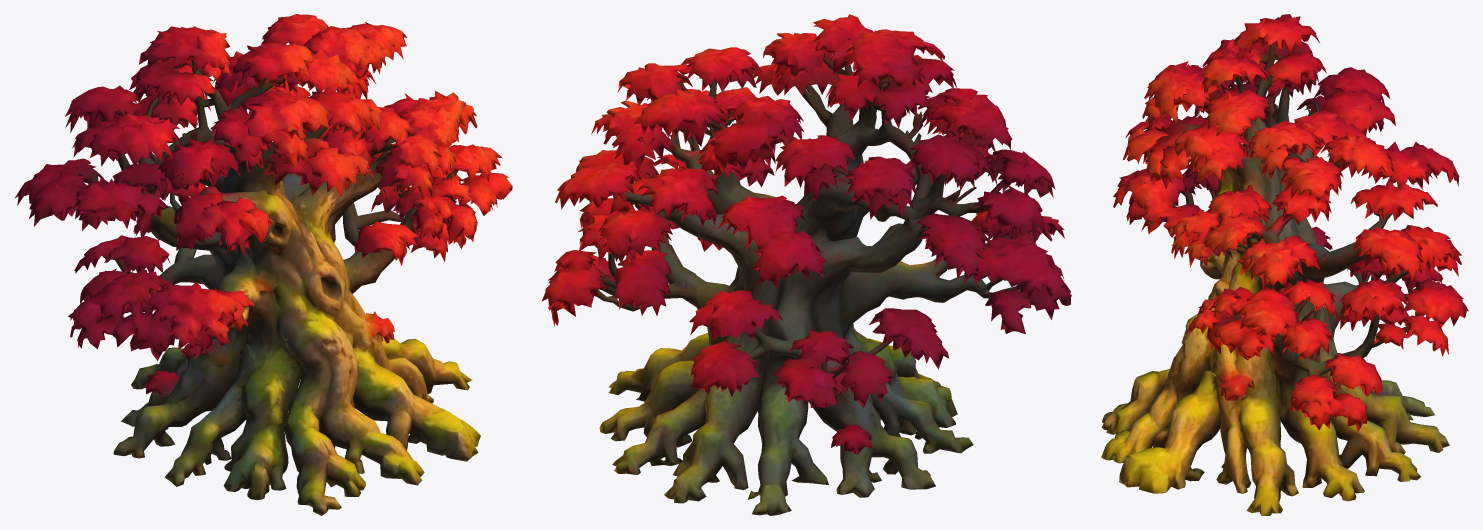
The model's file is fantasy tree 3d model.glb.
The picture shows the model from 3 angles, left to right: view 1: azimuth 30°, elevation 25°; view 2: azimuth 150°, elevation 25°; view 3: azimuth 270°, elevation 25°; orthographic projection. The views are drawn at different scales.
Parts seen in each view (by area): view 1: tripo_node_ffb2875d-bdaa-4a26-88d8-d7b0ee3d41b0; view 2: tripo_node_ffb2875d-bdaa-4a26-88d8-d7b0ee3d41b0; view 3: tripo_node_ffb2875d-bdaa-4a26-88d8-d7b0ee3d41b0.
Part boxes in pixels (x1,y1,x2,y2): tripo_node_ffb2875d-bdaa-4a26-88d8-d7b0ee3d41b0: [14, 14, 512, 515]; tripo_node_ffb2875d-bdaa-4a26-88d8-d7b0ee3d41b0: [541, 14, 1071, 515]; tripo_node_ffb2875d-bdaa-4a26-88d8-d7b0ee3d41b0: [1101, 14, 1468, 515].
Size of the model in its own units: 1 by 0.8724 by 0.7484.
1 material, 1 textured.
